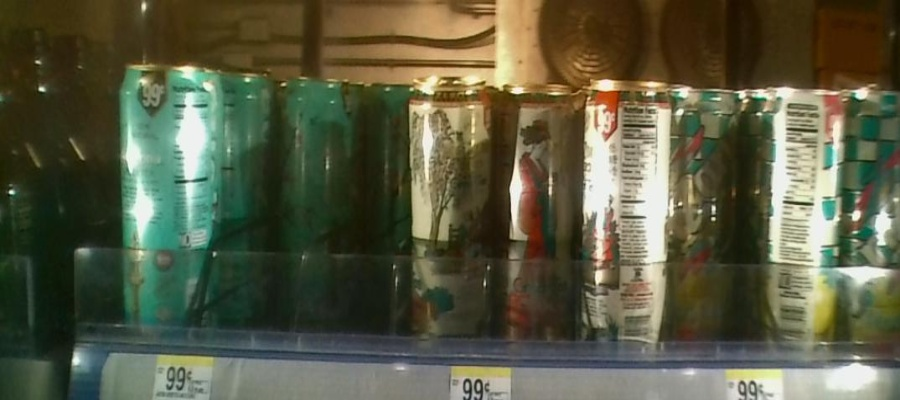bottle: (116, 57, 221, 344), (751, 73, 847, 363), (578, 67, 670, 357), (410, 69, 493, 344), (499, 72, 576, 356), (672, 69, 742, 363), (282, 66, 355, 333), (850, 75, 900, 366), (360, 62, 407, 341)
